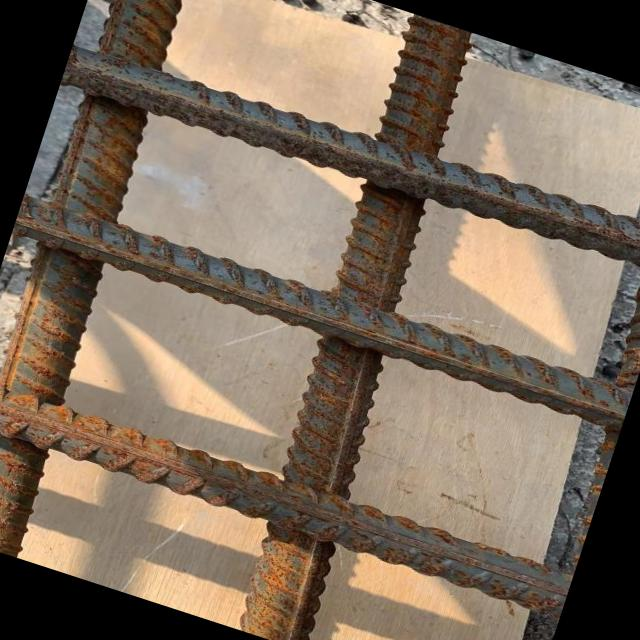ribbed bar: (210, 12, 511, 640), (11, 193, 634, 434), (59, 36, 640, 288), (0, 372, 575, 620), (0, 0, 220, 559), (530, 100, 640, 573)
